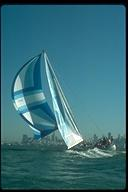sailboat: (10, 47, 119, 157)
sky: (74, 8, 124, 115), (2, 6, 125, 48)
water: (3, 159, 125, 188)
